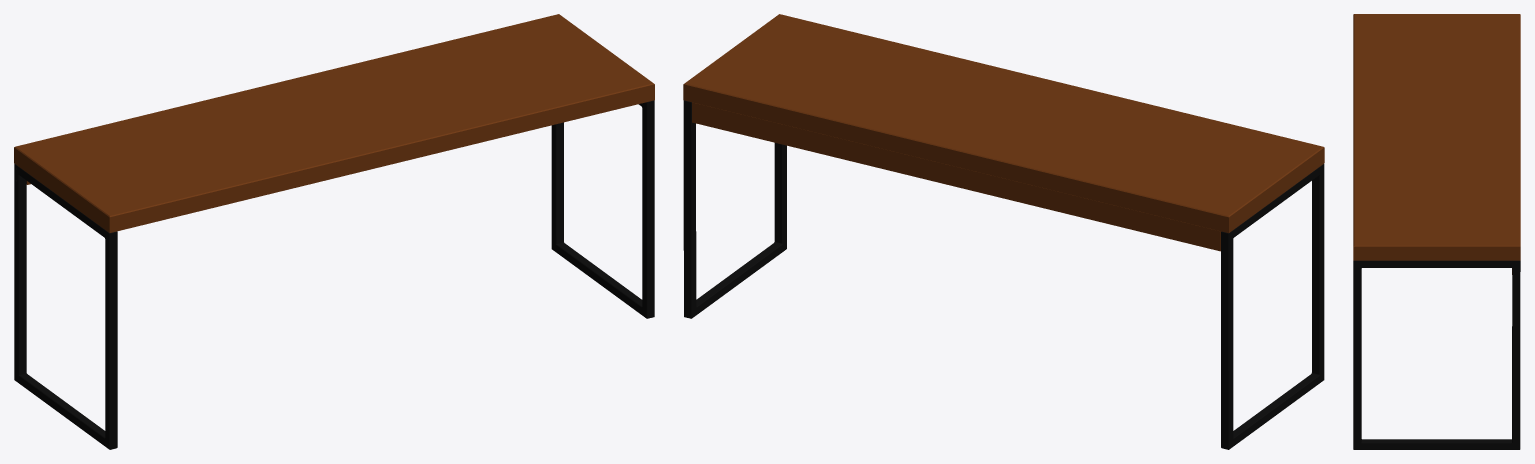
Rendered from table.obj.
3 views of the same model, side by side, from view 1: azimuth 30°, elevation 25°; view 2: azimuth 150°, elevation 25°; view 3: azimuth 270°, elevation 25° (orthographic). The views are drawn at different scales.
Parts seen in each view (by area): view 1: sm_table_2m_mt_table_mdf_0, sm_table_2m_mt_table_metal-base_0; view 2: sm_table_2m_mt_table_mdf_0, sm_table_2m_mt_table_metal-base_0; view 3: sm_table_2m_mt_table_mdf_0, sm_table_2m_mt_table_metal-base_0.
Part boxes in pixels (bbox=[...]): sm_table_2m_mt_table_mdf_0: bbox=[14, 14, 654, 232]; sm_table_2m_mt_table_metal-base_0: bbox=[14, 100, 654, 449]; sm_table_2m_mt_table_mdf_0: bbox=[683, 14, 1324, 251]; sm_table_2m_mt_table_metal-base_0: bbox=[683, 100, 1324, 449]; sm_table_2m_mt_table_mdf_0: bbox=[1353, 14, 1520, 274]; sm_table_2m_mt_table_metal-base_0: bbox=[1353, 260, 1520, 449].
Size of the model in its own units: 2 by 0.8194 by 0.6075.
